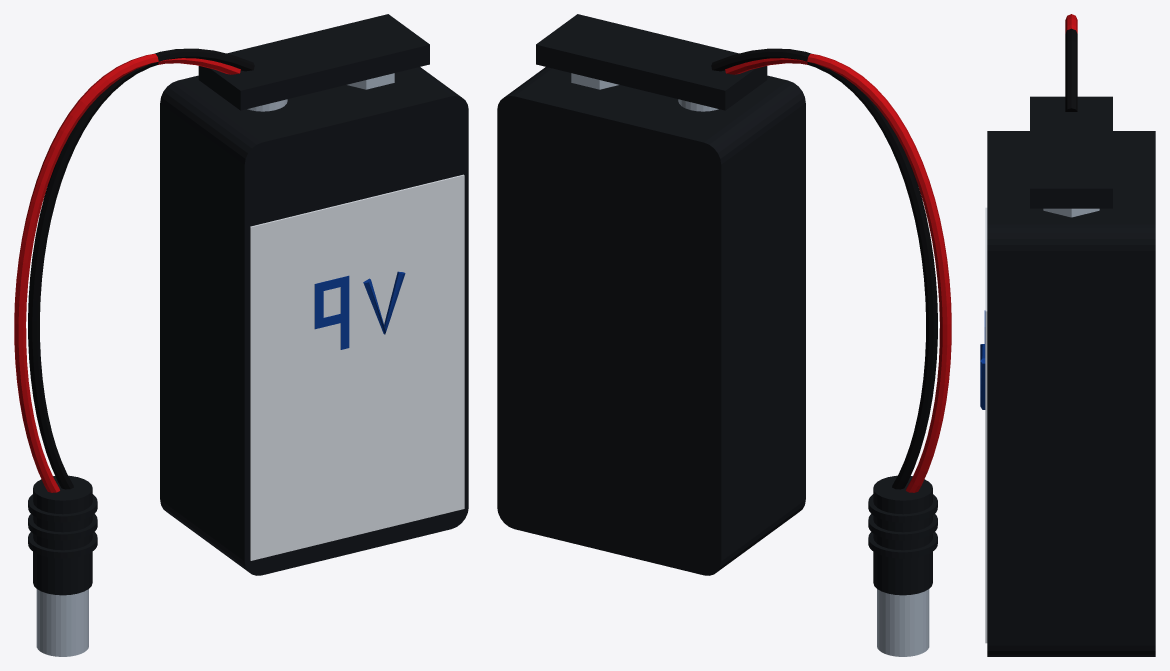
File: battery_pack_7v_12v.obj
3 views of the same model, side by side, from view 1: azimuth 30°, elevation 25°; view 2: azimuth 150°, elevation 25°; view 3: azimuth 270°, elevation 25° (orthographic).
Parts seen in each view (by area): view 1: battery_pack_7v_12v; view 2: battery_pack_7v_12v; view 3: battery_pack_7v_12v.
Boxes of the visible parts, x1=… form: battery_pack_7v_12v: x1=14, y1=14, x2=468, y2=656; battery_pack_7v_12v: x1=497, y1=14, x2=951, y2=656; battery_pack_7v_12v: x1=980, y1=14, x2=1155, y2=656.
Bounding box in the file's own units: 1.51 × 2 × 0.5605.
